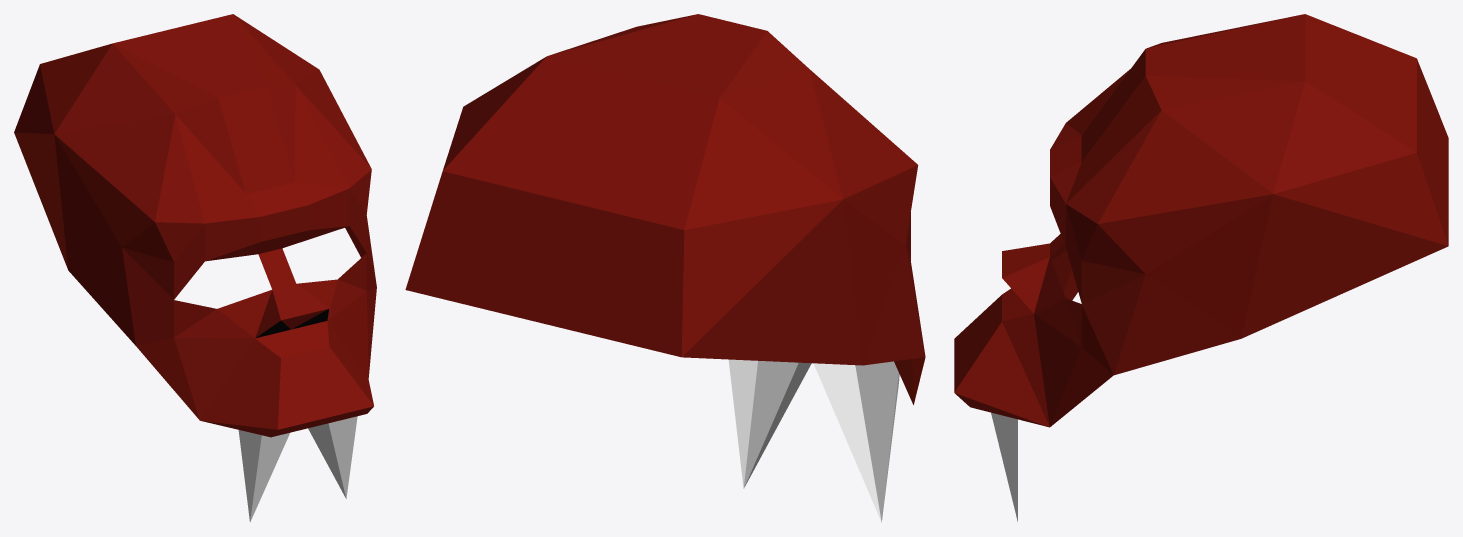
3 views of the same model, side by side, from view 1: azimuth 30°, elevation 25°; view 2: azimuth 150°, elevation 25°; view 3: azimuth 270°, elevation 25° (orthographic). The views are drawn at different scales.
Parts seen in each view (by area): view 1: 74; view 2: 74; view 3: 74.
Part boxes in pixels (bbox=[...]): 74: bbox=[14, 14, 376, 522]; 74: bbox=[405, 14, 925, 522]; 74: bbox=[954, 14, 1448, 521].
Bounding box in the file's own units: 88 × 124 × 124.
